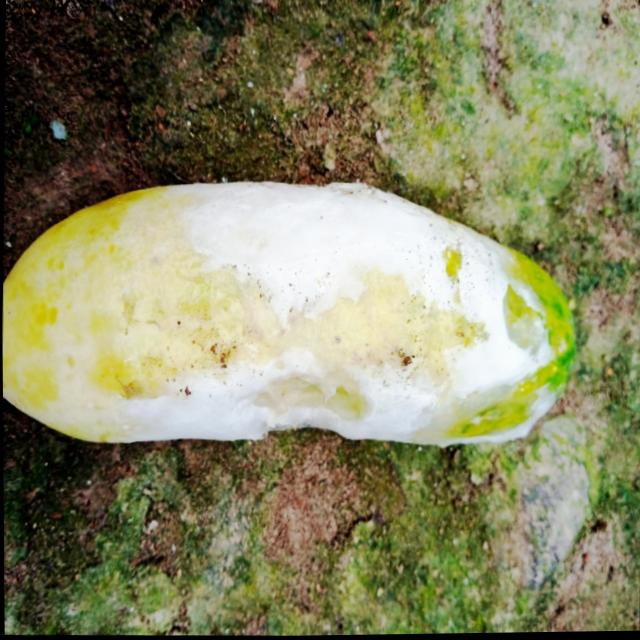Pythium-Fruit-Rot: (108, 174, 556, 453)
